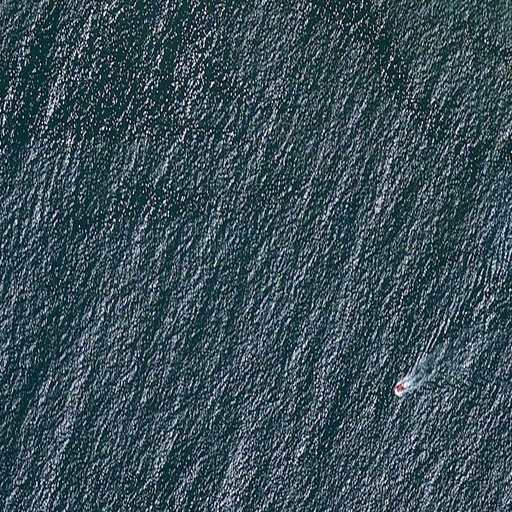ship: (395, 382, 405, 395)
